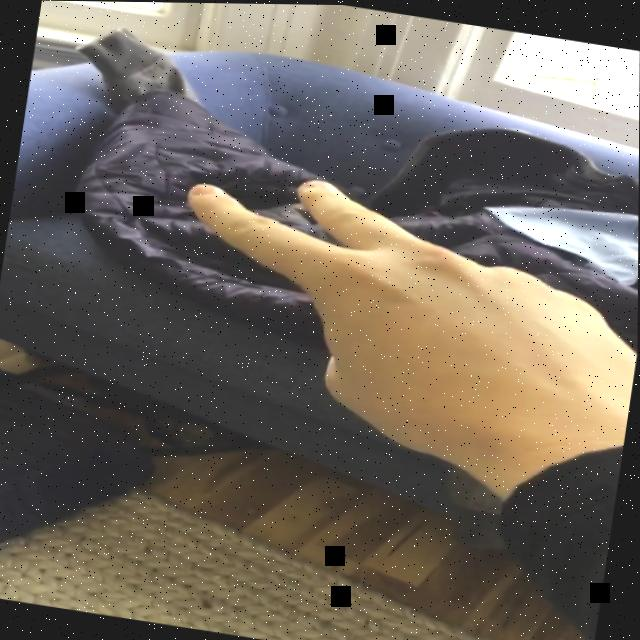Scissors: (156, 157, 639, 487)
